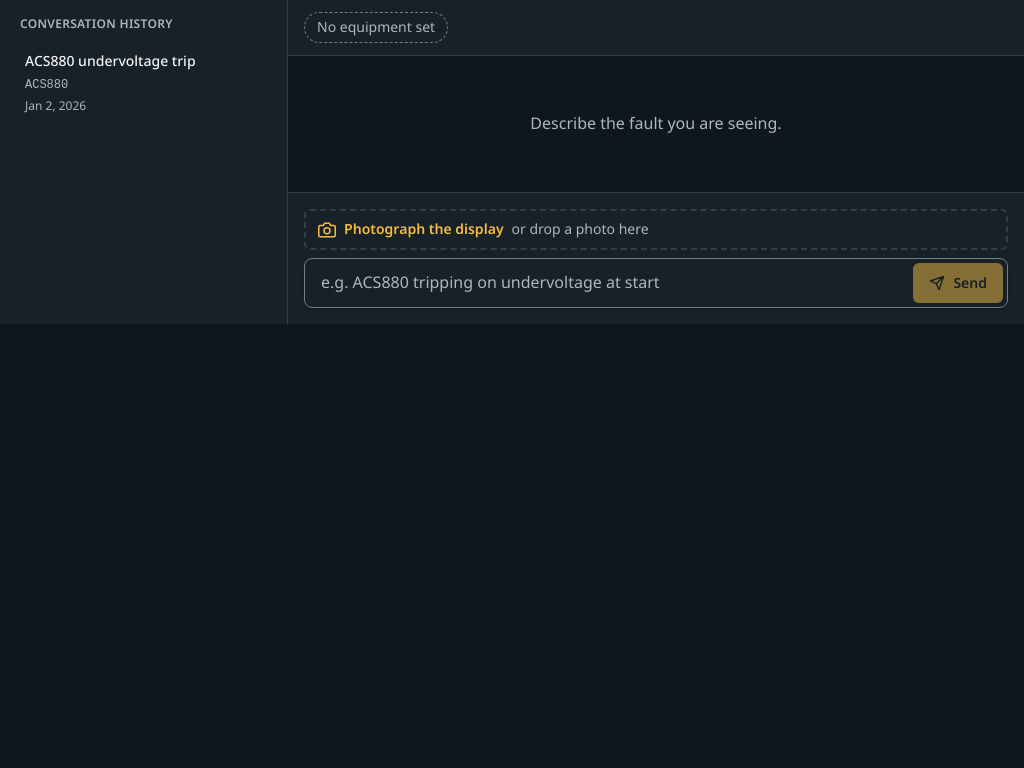
Test: selecting a past session › leaves the chip neutral when no turn identified equipment
Click the button with test id "history-item-old-session" at (110, 62), box [12,42,275,125]
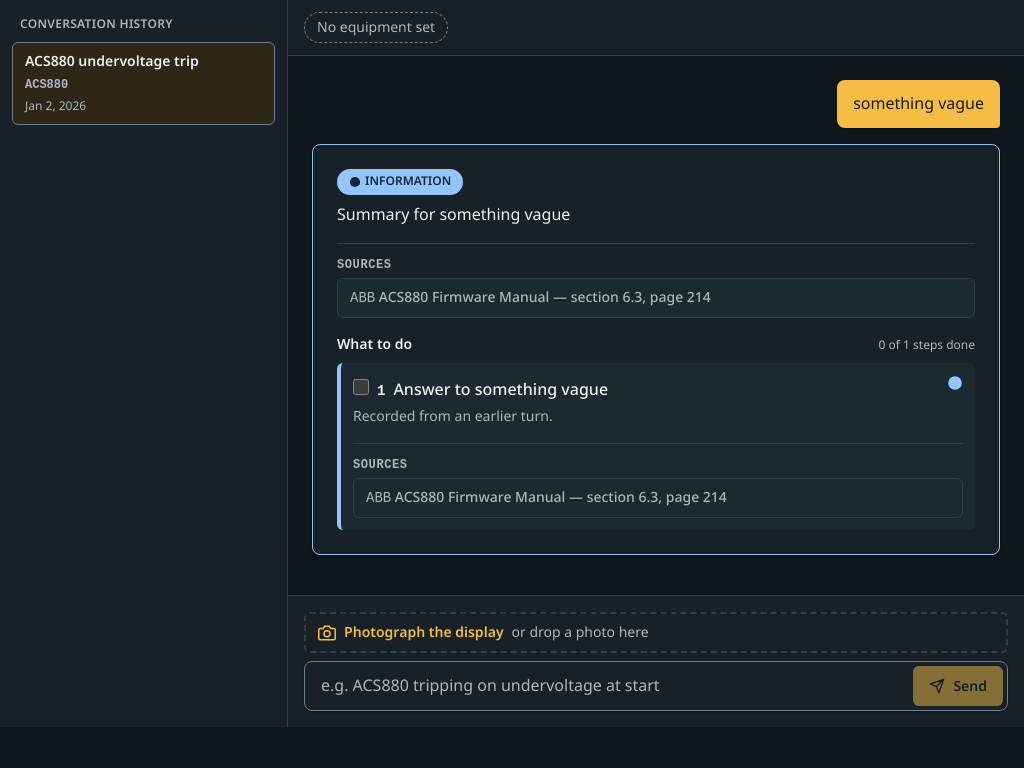
Expected: the element with test id "context-chip" does not show "ACS880"
Expected: the text "something vague" is shown, [837,80,1000,128]
